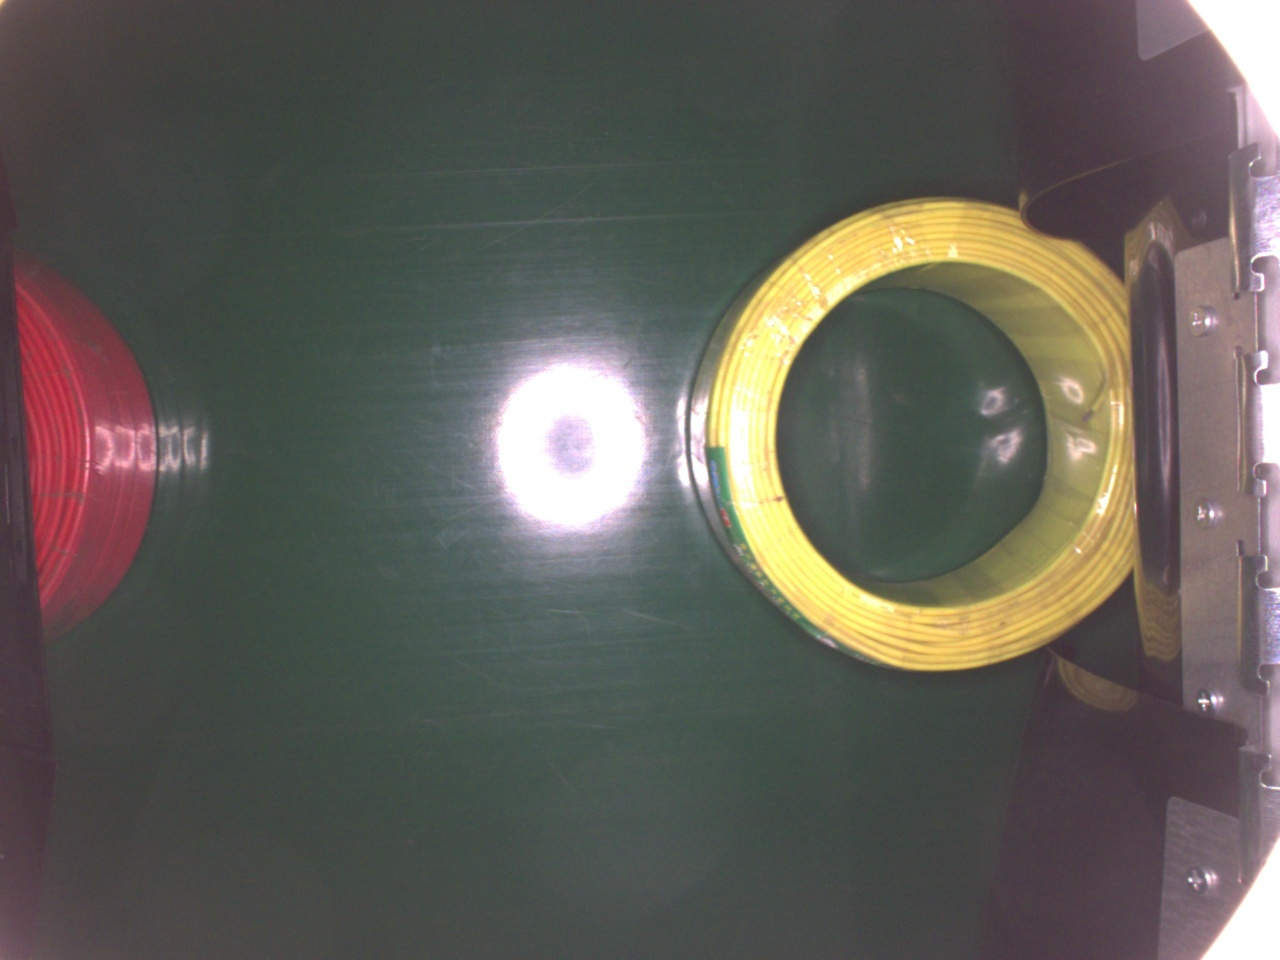red: (8, 248, 160, 638)
yellow: (682, 197, 1138, 672)
